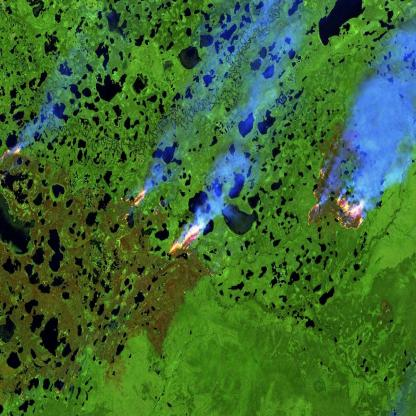fire: (302, 160, 372, 242), (162, 214, 215, 270), (110, 183, 154, 230), (0, 135, 32, 181)
